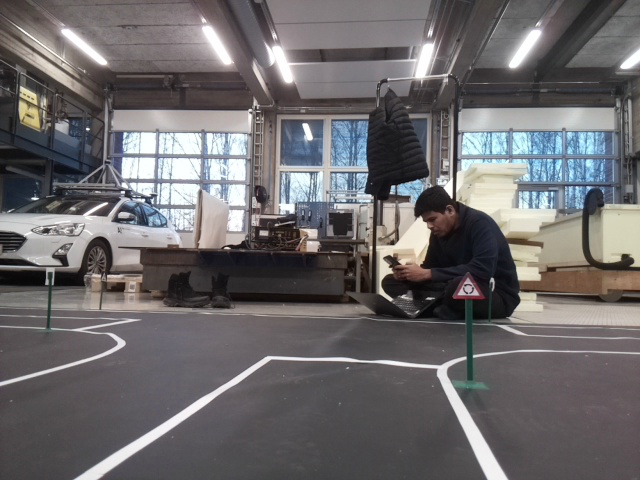Roundabout: (451, 272, 486, 299)
